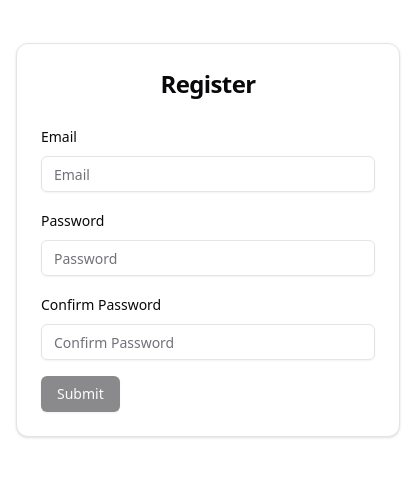
Scenario: Register Form › Handle Errors › should show password error message on invalid password
Expected: the text "String must contain at least 4 character(s)" is not shown
Type "alireza@test.com" into the field labelled "Email" at (208, 174), box top-left (41, 156), bottom-right (375, 192)
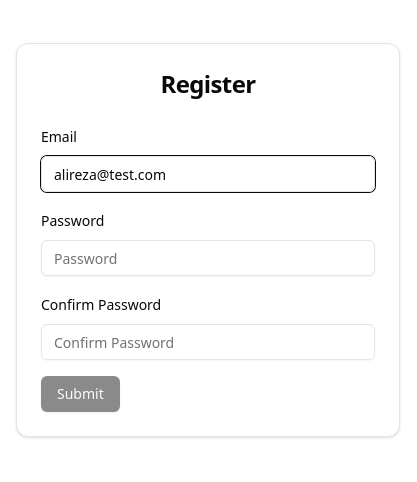
Type "123" into the password field labelled "Password" at (208, 258), box top-left (41, 240), bottom-right (375, 276)
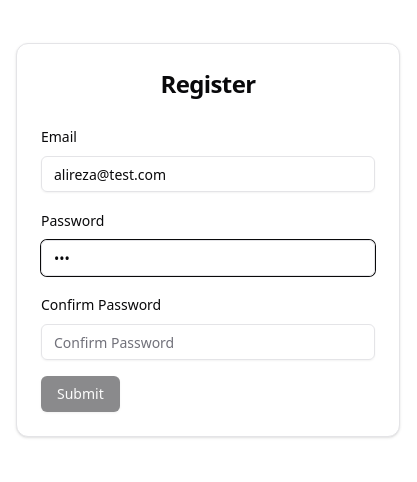
Type "123" into the password field labelled "Confirm Password" at (208, 342), box top-left (41, 324), bottom-right (375, 360)
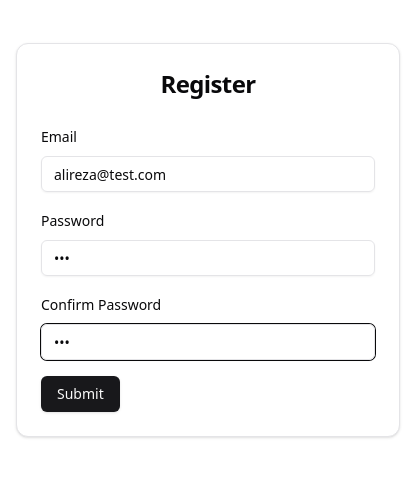
Click the button "Submit" at (80, 394), box top-left (41, 376), bottom-right (120, 412)
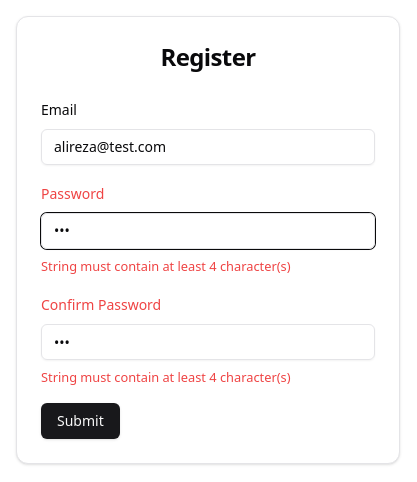
Now the 1st text "String must contain at least 4 character(s)" is shown, box top-left (41, 257), bottom-right (290, 275)
